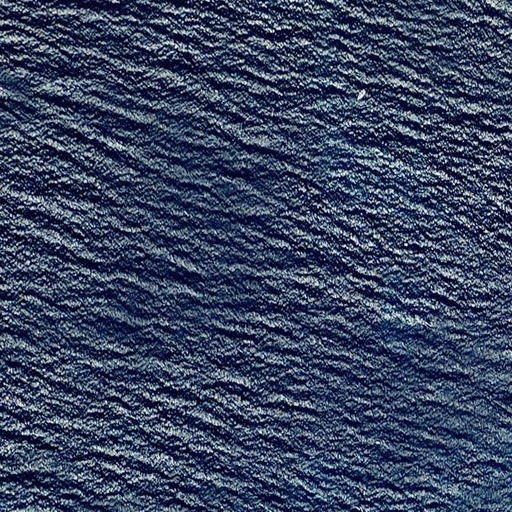ship: (355, 87, 367, 101)
